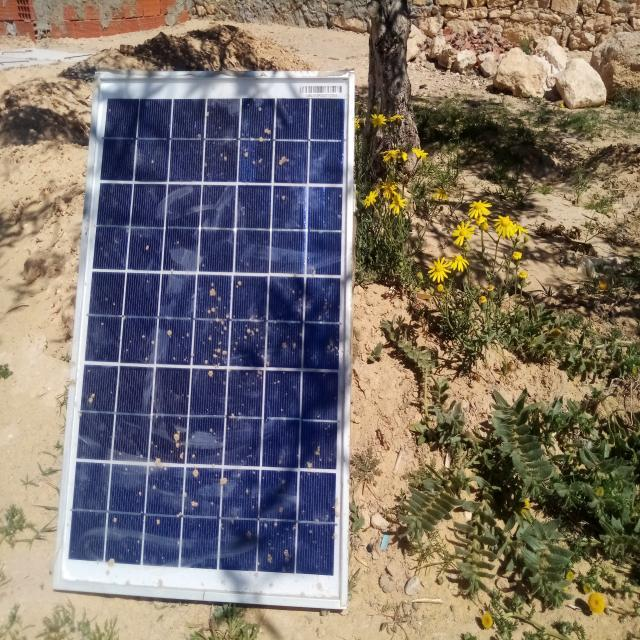faulty: (58, 76, 352, 609)
